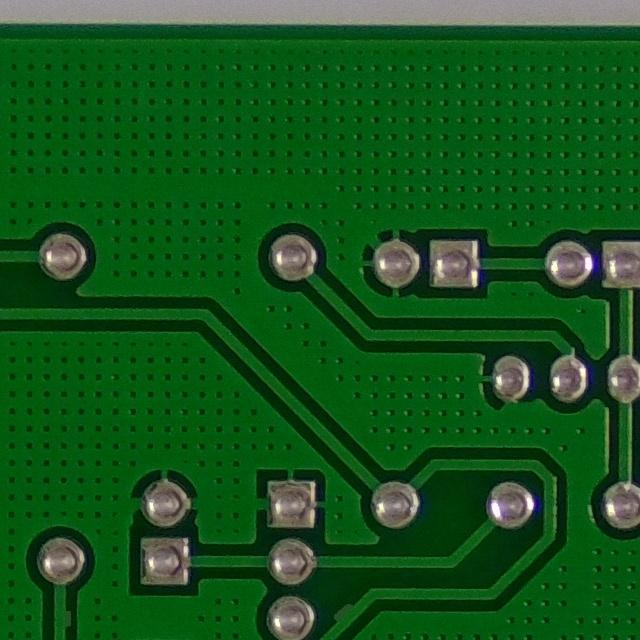spur: (322, 597, 365, 630), (45, 595, 77, 638)
